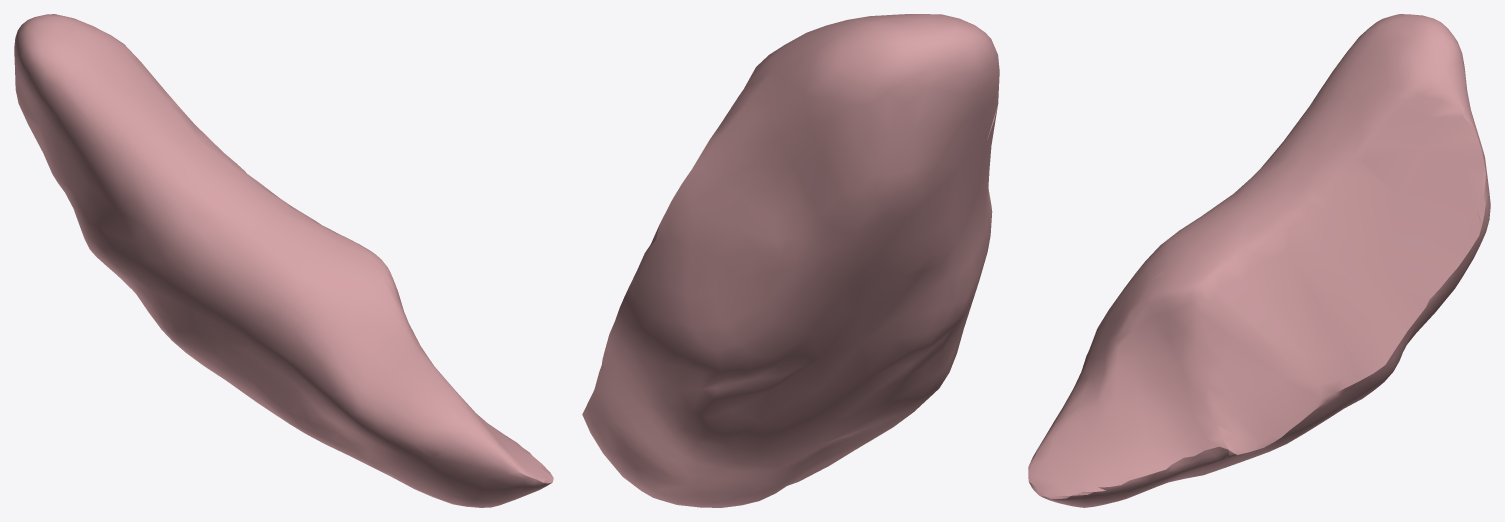
File: fma59949_mm1167m.glb
3 renders of one model, left to right at view 1: azimuth 30°, elevation 25°; view 2: azimuth 150°, elevation 25°; view 3: azimuth 270°, elevation 25°, orthographic. The views are drawn at different scales.
Parts seen in each view (by area): view 1: FMA59949_MM1167M; view 2: FMA59949_MM1167M; view 3: FMA59949_MM1167M.
Boxes of the visible parts, x1,y1,x2,y2 form: FMA59949_MM1167M: (14,14,553,507); FMA59949_MM1167M: (582,14,999,507); FMA59949_MM1167M: (1028,14,1490,507).
Bounding box in the file's own units: 0.0244 × 0.0283 × 0.0317.
